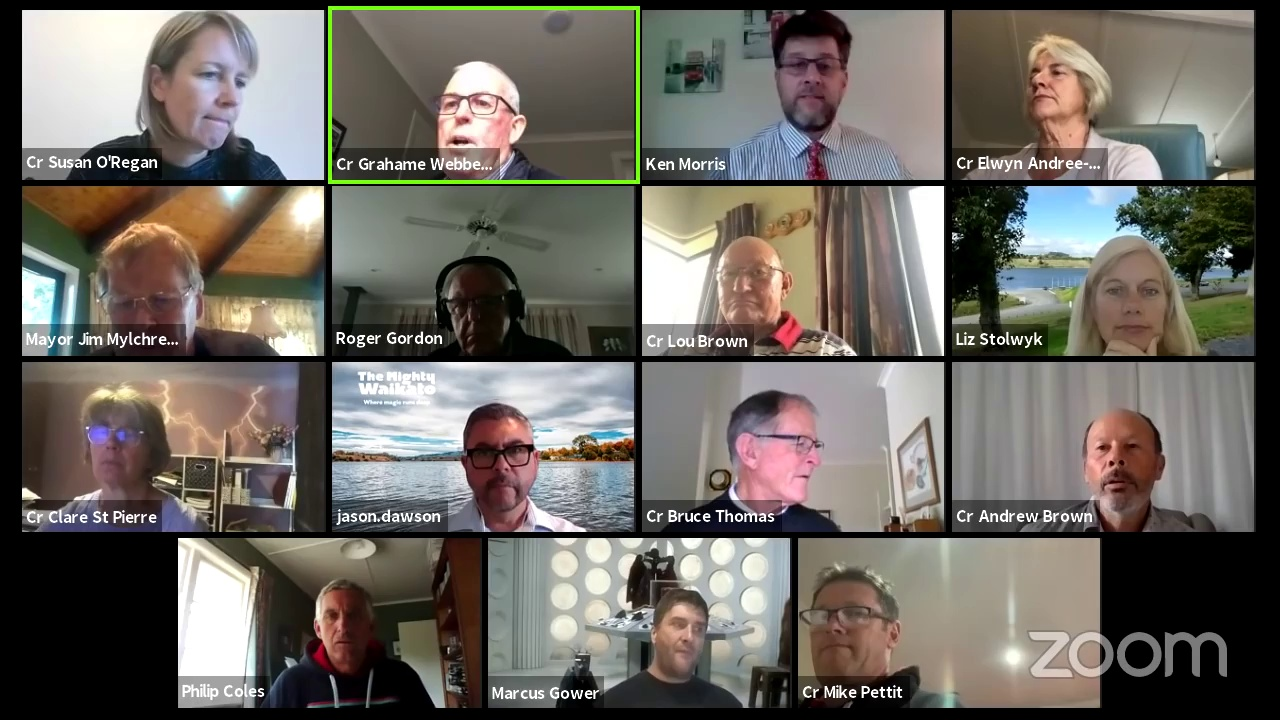Distracted: (721, 391, 834, 510), (1013, 37, 1115, 128)
Not Distracted: (126, 6, 270, 151), (415, 55, 535, 164), (802, 565, 902, 680), (453, 400, 552, 512), (1077, 405, 1169, 519), (1080, 243, 1174, 346), (770, 17, 856, 129), (426, 266, 531, 347), (712, 232, 803, 324), (81, 398, 167, 489), (97, 241, 198, 317), (644, 588, 719, 678), (303, 580, 383, 661)
